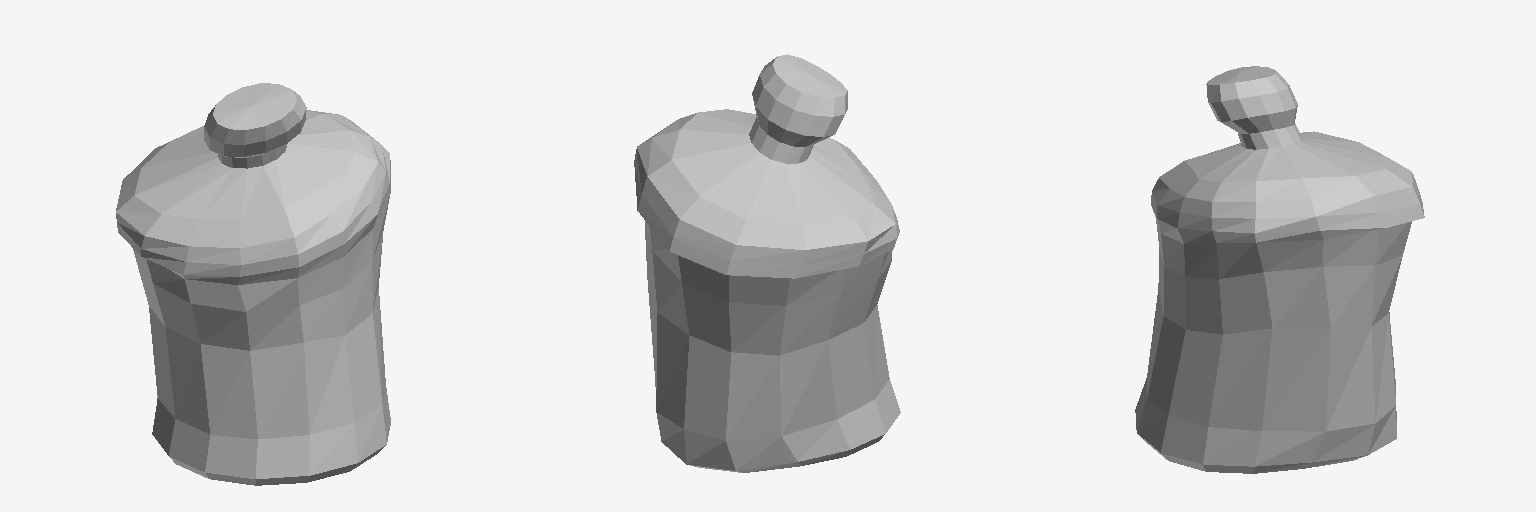
Rendered from CoffeeJar_geo_kitchen.obj.
The picture shows the model from 3 angles: view 1: azimuth 30°, elevation 25°; view 2: azimuth 150°, elevation 25°; view 3: azimuth 270°, elevation 25°; orthographic projection.
Parts seen in each view (by area): view 1: CoffeeJar_geo_kitchen:coffeeJar1; view 2: CoffeeJar_geo_kitchen:coffeeJar1; view 3: CoffeeJar_geo_kitchen:coffeeJar1.
Part boxes in pixels (x1,y1,x2,y2): CoffeeJar_geo_kitchen:coffeeJar1: (116, 83, 390, 485); CoffeeJar_geo_kitchen:coffeeJar1: (634, 54, 900, 472); CoffeeJar_geo_kitchen:coffeeJar1: (1135, 66, 1424, 473).
Bounding box in the file's own units: 378 × 533 × 388.